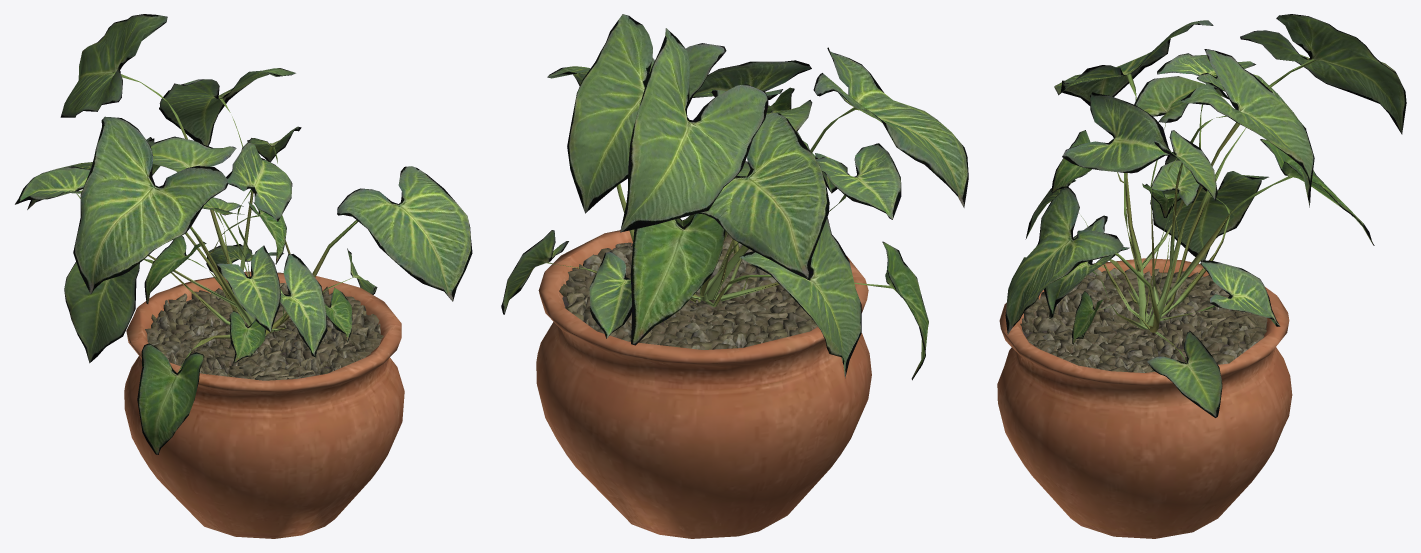
File: plant_large.glb
The picture shows the model from 3 angles, left to right: view 1: azimuth 30°, elevation 25°; view 2: azimuth 150°, elevation 25°; view 3: azimuth 270°, elevation 25°; orthographic projection. The views are drawn at different scales.
Parts seen in each view (by area): view 1: potted_plant_02_leaves, potted_plant_02_pot, potted_plant_02_dirt; view 2: potted_plant_02_leaves, potted_plant_02_pot, potted_plant_02_dirt; view 3: potted_plant_02_leaves, potted_plant_02_pot, potted_plant_02_dirt.
Boxes of the visible parts, box(x1,y1,x2,y2) form: potted_plant_02_leaves: box(15, 14, 472, 454); potted_plant_02_pot: box(124, 271, 404, 538); potted_plant_02_dirt: box(145, 283, 383, 380); potted_plant_02_leaves: box(501, 14, 968, 380); potted_plant_02_pot: box(536, 230, 871, 538); potted_plant_02_dirt: box(559, 233, 817, 349); potted_plant_02_leaves: box(1005, 14, 1406, 417); potted_plant_02_pot: box(997, 258, 1292, 538); potted_plant_02_dirt: box(1020, 268, 1267, 372).
Bounding box in the file's own units: 0.7009 × 0.8401 × 0.6561.
2 materials, 2 textured.
